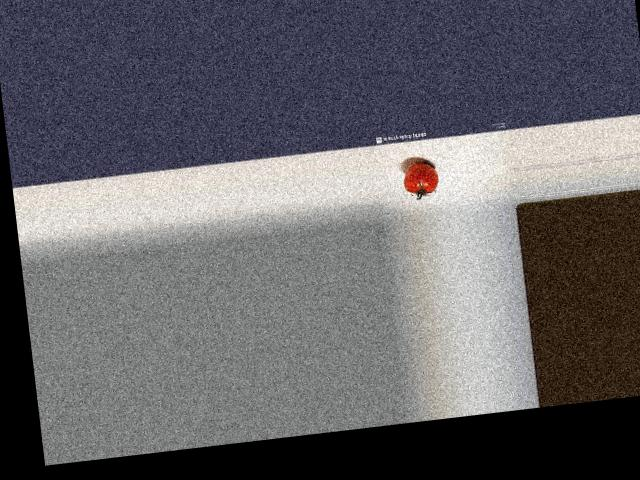tomato: (402, 160, 440, 195)
